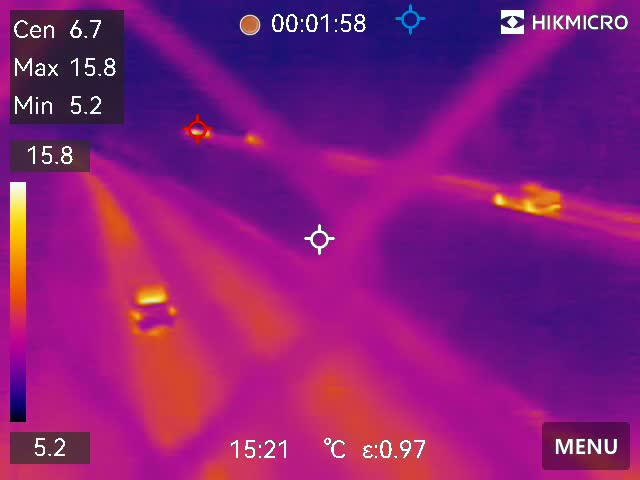vehicle: (120, 278, 186, 341), (493, 175, 562, 212)
